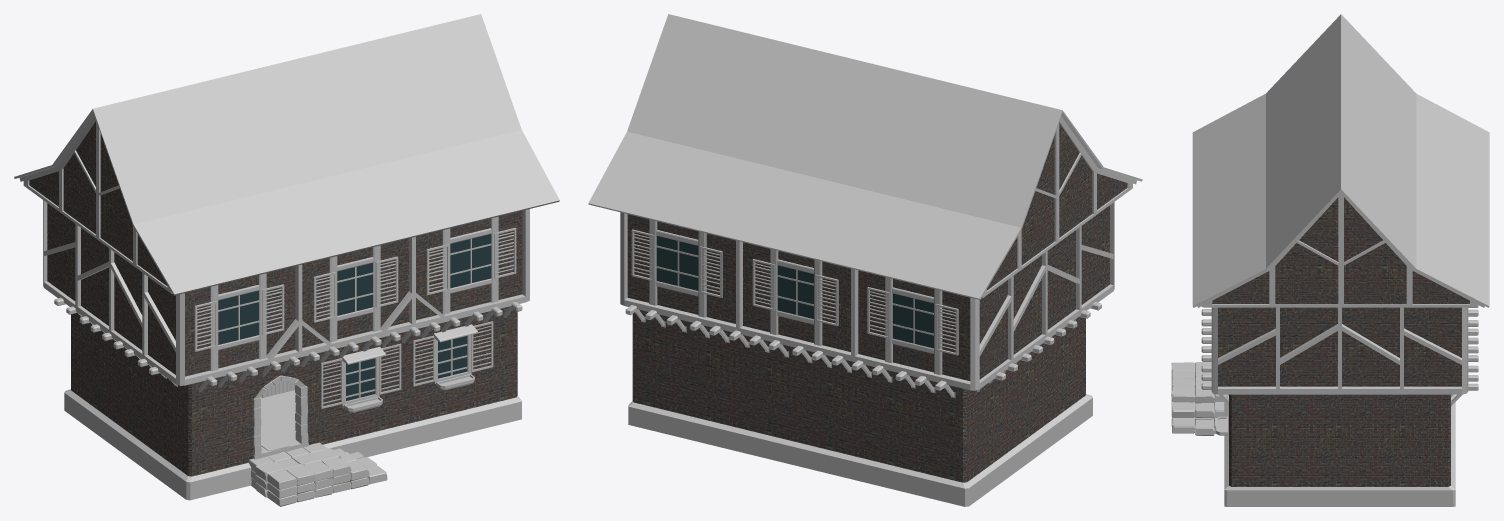
The model's file is Houses02-2et.fbx.
3 views of the same model, side by side, from view 1: azimuth 30°, elevation 25°; view 2: azimuth 150°, elevation 25°; view 3: azimuth 270°, elevation 25° (orthographic). The views are drawn at different scales.
Parts seen in each view (by area): view 1: H2Rooftop, H2S1, H2S2, H2S2Window, H2S2Wood, H2S1Bottom, H2S1Window, House2RoofTkrp, H2SStais, H2RoofWood, H2S1Enter, Cube.466; view 2: H2Rooftop, H2S1, H2S2, H2S2Window, H2S2Wood, H2S1Bottom, House2RoofTkrp, H2RoofWood; view 3: H2Rooftop, H2S1, H2S2, House2RoofTkrp, H2S2Wood, H2S1Bottom, H2RoofWood, H2SStais.
Part boxes in pixels (bbox=[...]): H2Rooftop: bbox=[14, 14, 559, 295]; H2S1: bbox=[71, 306, 517, 476]; H2S2: bbox=[47, 203, 522, 376]; H2S2Window: bbox=[194, 216, 516, 371]; H2S2Wood: bbox=[43, 200, 529, 392]; H2S1Bottom: bbox=[64, 389, 521, 500]; H2S1Window: bbox=[321, 321, 493, 412]; House2RoofTkrp: bbox=[29, 121, 167, 285]; H2SStais: bbox=[248, 442, 387, 506]; H2RoofWood: bbox=[19, 111, 172, 293]; H2S1Enter: bbox=[253, 375, 308, 459]; Cube.466: bbox=[260, 390, 296, 442]; H2Rooftop: bbox=[588, 14, 1142, 299]; H2S1: bbox=[632, 309, 1085, 482]; H2S2: bbox=[627, 205, 1109, 380]; H2S2Window: bbox=[631, 219, 958, 374]; H2S2Wood: bbox=[620, 202, 1114, 398]; H2S1Bottom: bbox=[628, 394, 1092, 506]; House2RoofTkrp: bbox=[987, 123, 1126, 290]; H2RoofWood: bbox=[981, 112, 1140, 298]; H2Rooftop: bbox=[1192, 14, 1489, 307]; H2S1: bbox=[1229, 392, 1450, 486]; H2S2: bbox=[1218, 307, 1461, 386]; House2RoofTkrp: bbox=[1212, 197, 1469, 304]; H2S2Wood: bbox=[1201, 305, 1478, 406]; H2S1Bottom: bbox=[1224, 394, 1455, 506]; H2RoofWood: bbox=[1197, 191, 1484, 307]; H2SStais: bbox=[1171, 362, 1227, 435].
Size of the model in its own units: 1254 by 1099 by 962.
